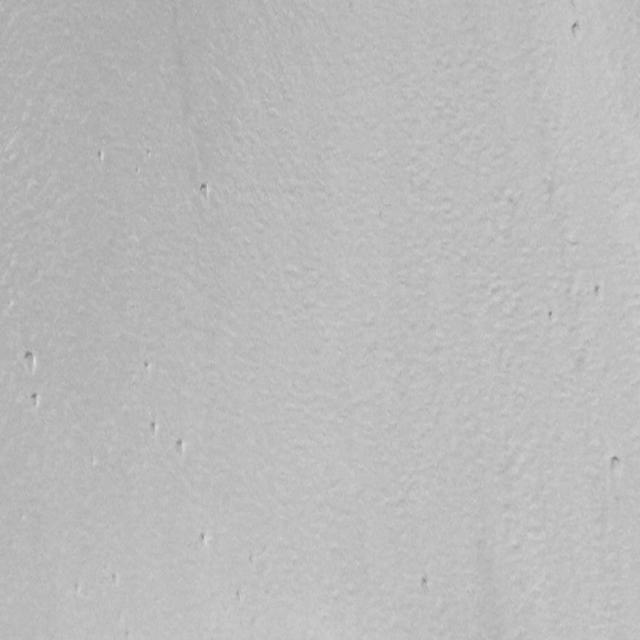pin holes: (606, 455, 627, 481), (567, 17, 587, 44), (20, 351, 40, 377), (416, 572, 436, 596), (172, 437, 188, 459), (197, 182, 213, 202), (28, 391, 43, 412), (195, 532, 212, 550), (232, 586, 246, 604), (148, 420, 161, 437), (592, 285, 605, 302), (546, 308, 559, 324), (140, 359, 153, 375), (110, 572, 122, 589), (95, 150, 107, 166)
